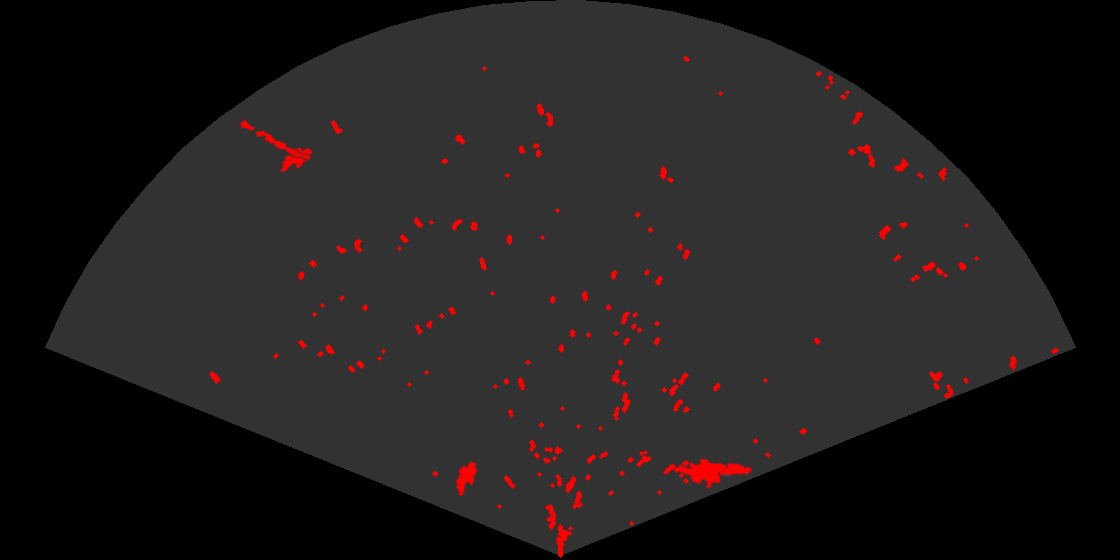AUV: (279, 146, 314, 174), (454, 460, 479, 498)
chain: (231, 115, 313, 161)
frogman: (679, 457, 754, 490)
